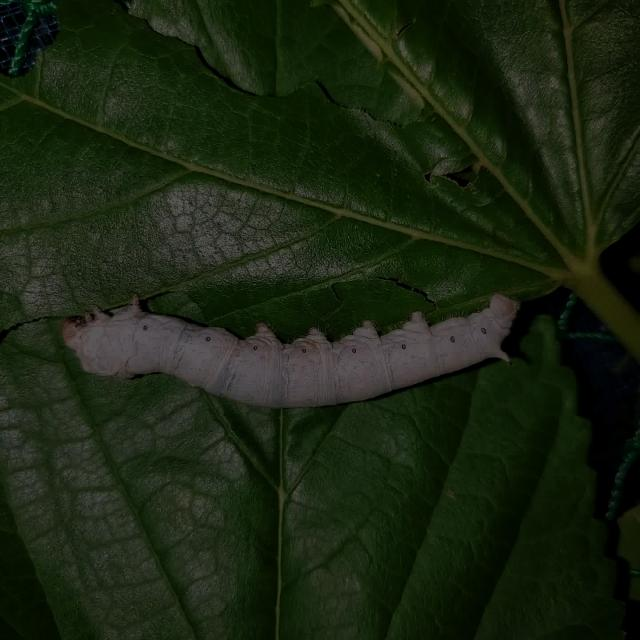Healthy: (57, 276, 523, 414)
